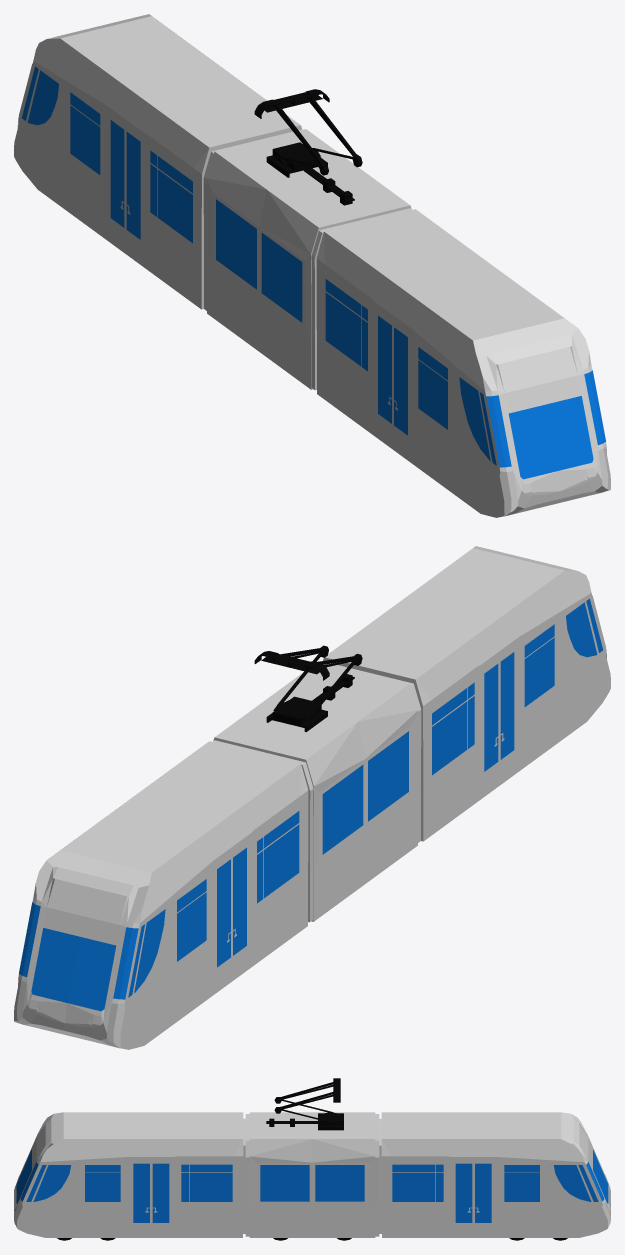
Rendered from Train_1.fbx.
3 views of the same model, one above another, from view 1: azimuth 30°, elevation 25°; view 2: azimuth 150°, elevation 25°; view 3: azimuth 270°, elevation 25° (orthographic). The views are drawn at different scales.
Parts seen in each view (by area): view 1: Train_1, Doors_1R, Doors_2L.001, Connector; view 2: Train_1, Doors_1R, Doors_2L.001, Connector; view 3: Train_1, Doors_1L, Doors_2L, Connector.
Boxes of the visible parts, x1,y1,x2,y2 form: Train_1: (14,14,610,517); Doors_1R: (125,120,411,462); Doors_2L.001: (106,106,392,448); Connector: (254,89,362,205); Train_1: (14,546,610,1049); Doors_1R: (232,638,518,981); Doors_2L.001: (213,652,499,994); Connector: (254,645,362,732); Train_1: (14,1112,610,1240); Doors_1L: (128,1157,473,1237); Doors_2L: (151,1157,496,1237); Connector: (266,1078,343,1130).
Size of the model in its own units: 250 by 527 by 2000.
